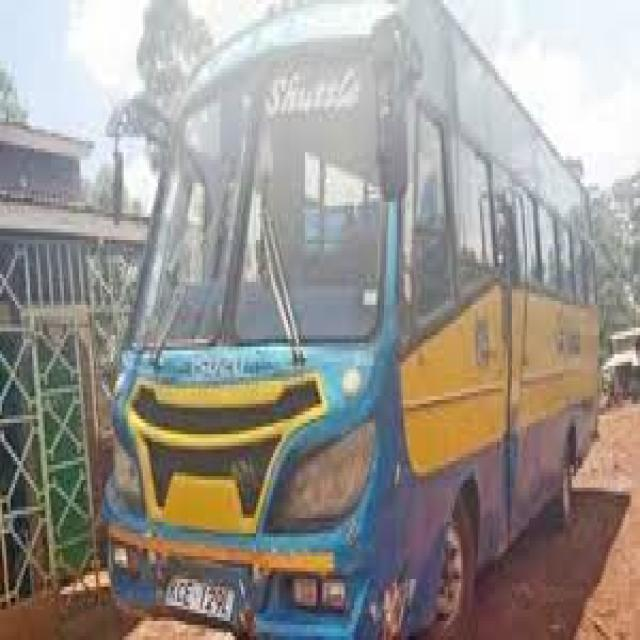bus: (76, 0, 616, 640)
